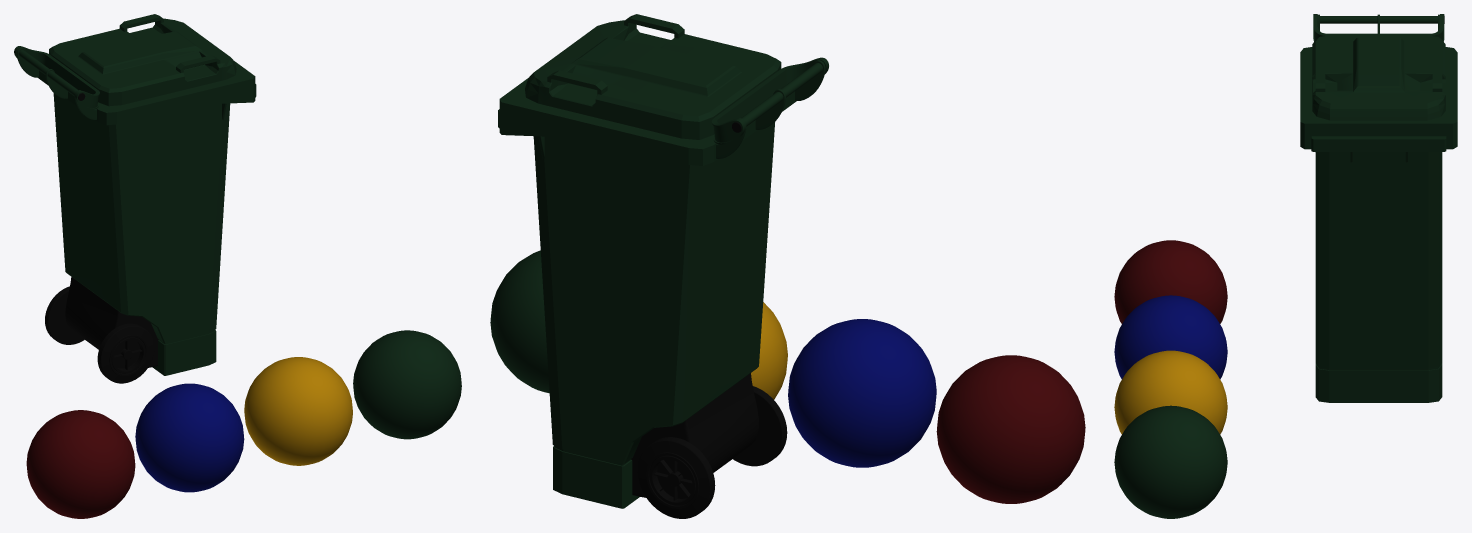
File: uploads_files_2073206_Trash_Container_fbx_.FBX
3 renders of one model, left to right at view 1: azimuth 30°, elevation 25°; view 2: azimuth 150°, elevation 25°; view 3: azimuth 270°, elevation 25°, orthographic. The views are drawn at different scales.
Visible parts, largest first — view 1: Trash_Container_body, _mtl_tc_blue, _mtl_tc_green, _mtl_tc_yellow, _mtl_tc_red, Trash_Container_parts; view 2: Trash_Container_body, _mtl_tc_blue, _mtl_tc_red, Trash_Container_parts, _mtl_tc_green, _mtl_tc_yellow; view 3: Trash_Container_body, _mtl_tc_green, _mtl_tc_yellow, _mtl_tc_red, _mtl_tc_blue, Trash_Container_parts.
Part boxes in pixels (x1,y1,x2,y2): Trash_Container_body: [38, 14, 256, 375]; _mtl_tc_blue: [135, 383, 244, 492]; _mtl_tc_green: [353, 330, 461, 439]; _mtl_tc_yellow: [244, 357, 352, 465]; _mtl_tc_red: [26, 410, 135, 518]; Trash_Container_parts: [14, 46, 226, 383]; Trash_Container_body: [498, 14, 796, 508]; _mtl_tc_blue: [788, 319, 936, 467]; _mtl_tc_red: [936, 355, 1085, 503]; Trash_Container_parts: [538, 57, 828, 518]; _mtl_tc_green: [490, 250, 549, 393]; _mtl_tc_yellow: [751, 302, 787, 399]; Trash_Container_body: [1300, 35, 1457, 402]; _mtl_tc_green: [1114, 405, 1227, 518]; _mtl_tc_yellow: [1114, 350, 1227, 434]; _mtl_tc_red: [1114, 240, 1227, 323]; _mtl_tc_blue: [1114, 295, 1227, 379]; Trash_Container_parts: [1313, 14, 1444, 162].
Bounding box in the file's own units: 134 × 108 × 90.84.
